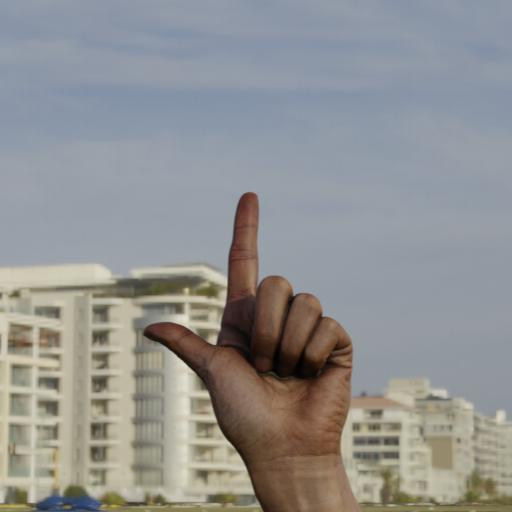L: (141, 188, 356, 454)
